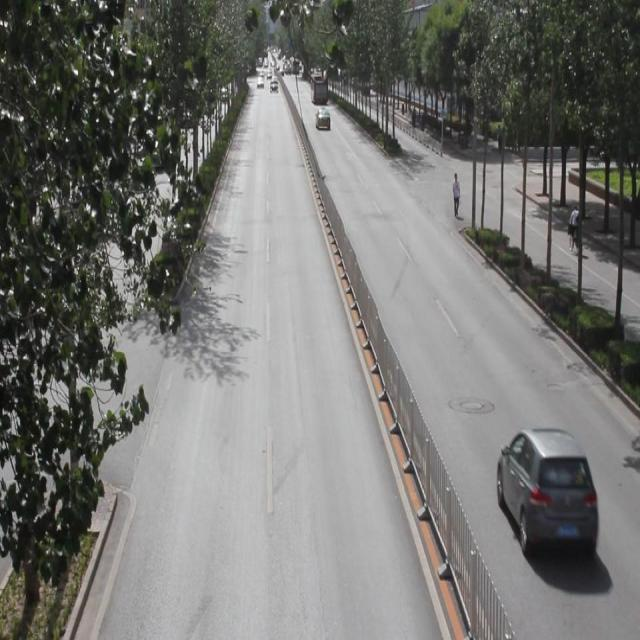BigCar: (309, 72, 333, 106)
car: (492, 402, 602, 583), (308, 100, 341, 135), (270, 78, 282, 94), (256, 75, 266, 91)
